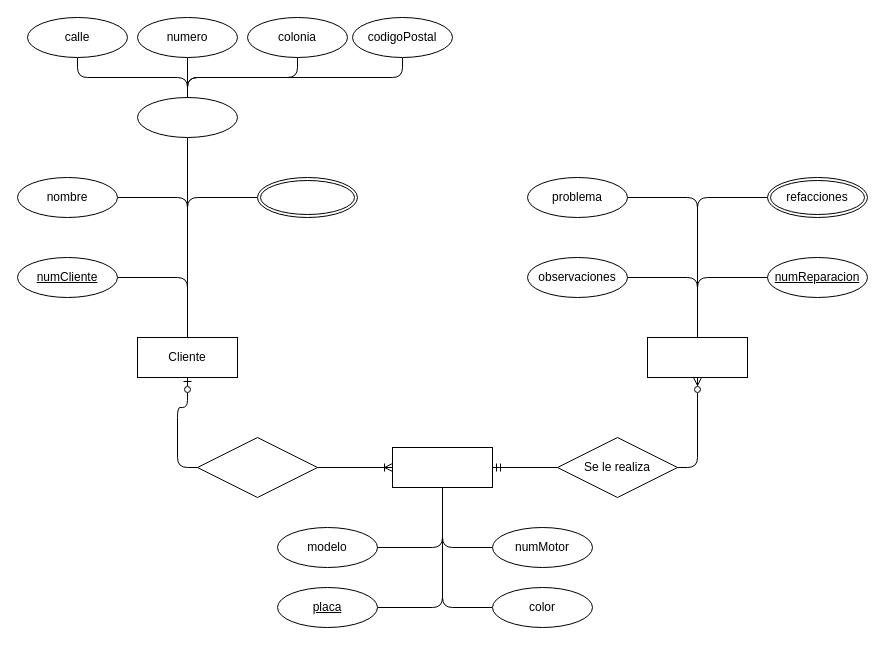
The diagram is 885 pixels wide and 645 high, and some of its shapes have lost their labels. Here are the shapes that lost their labels. From the top down, the centre of each, then its label:
At point 187,117: "direccion".
At point 307,197: "telefono".
At point 697,357: "Reparacion".
At point 257,467: "Lleva".
At point 442,467: "Auto".
